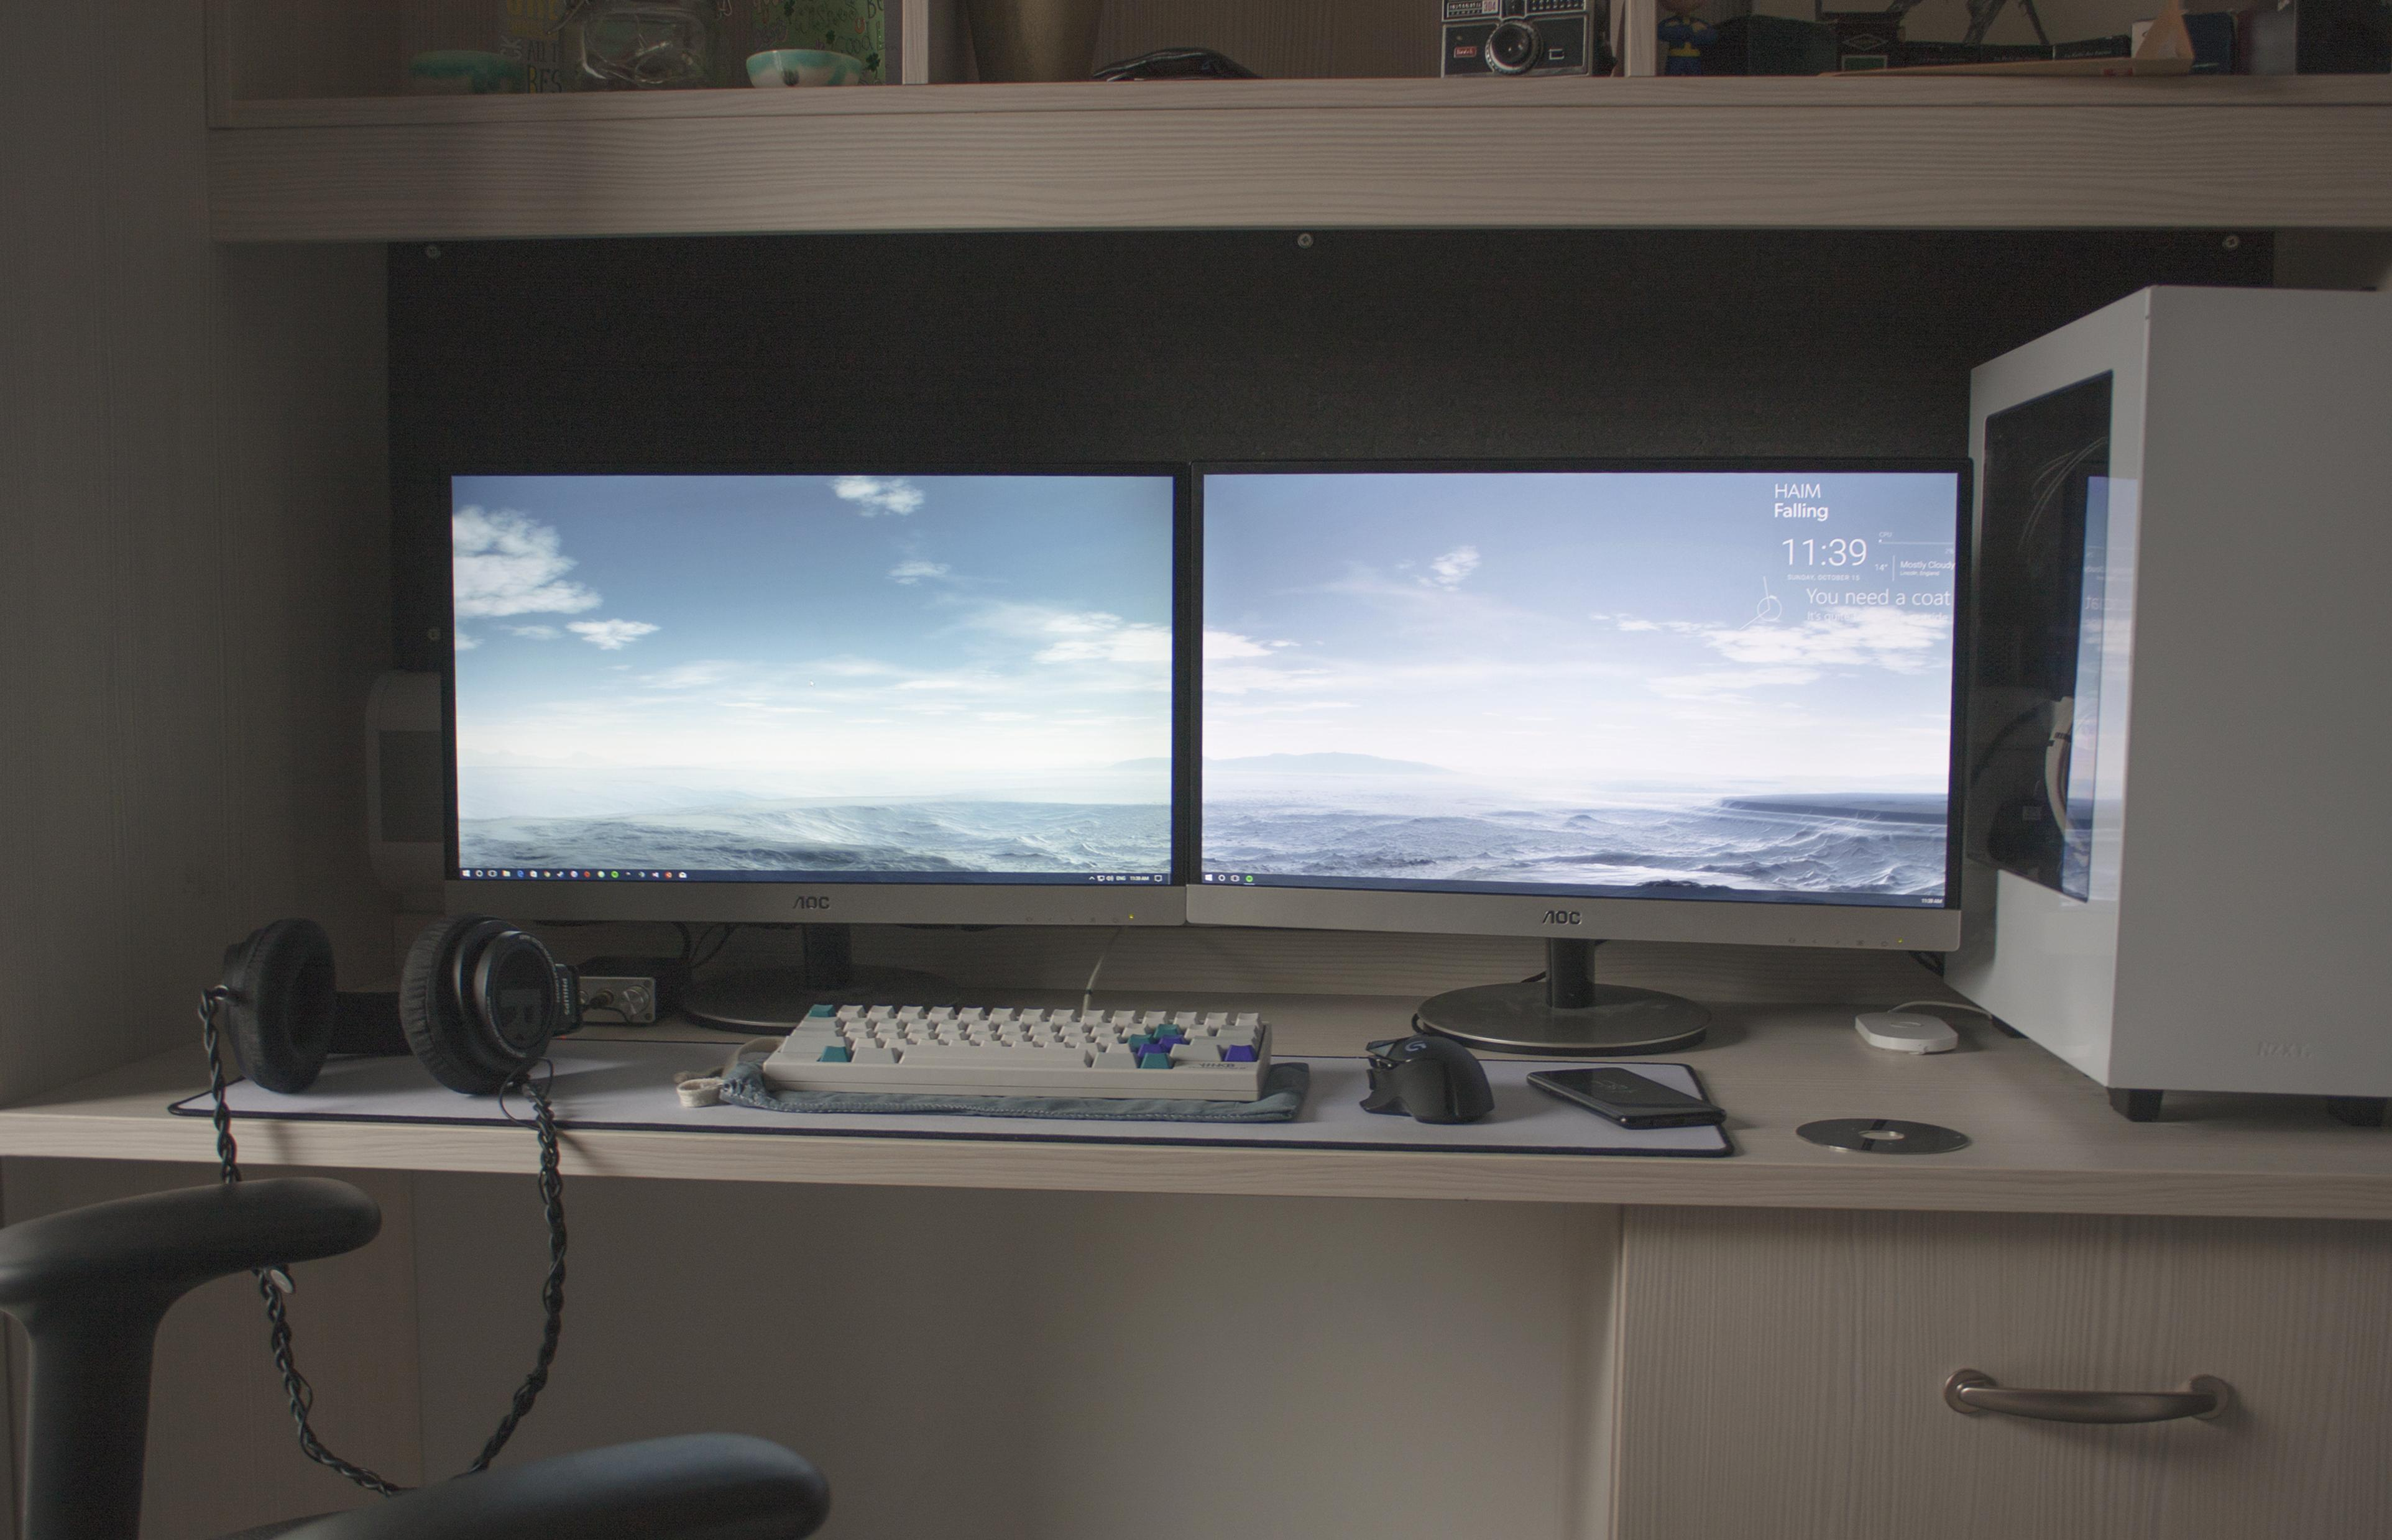Cellphone: (1536, 1052, 1714, 1155)
Cellphone Charger (Wireless): (1845, 995, 1979, 1059)
Desk (Generic): (17, 979, 2341, 1207)
Desktop (Windows): (1972, 293, 2392, 1106)
Headphones: (185, 890, 589, 1111)
Keyboard (Generic): (739, 1002, 1264, 1110)
Monitor (Landscape): (1196, 472, 1956, 922), (450, 476, 1184, 922)
Mouse (Ergonomic): (1353, 1014, 1503, 1117)
Mousepad (Generic): (202, 1045, 1754, 1160)
Storage Drawer: (1616, 1211, 2392, 1535)
